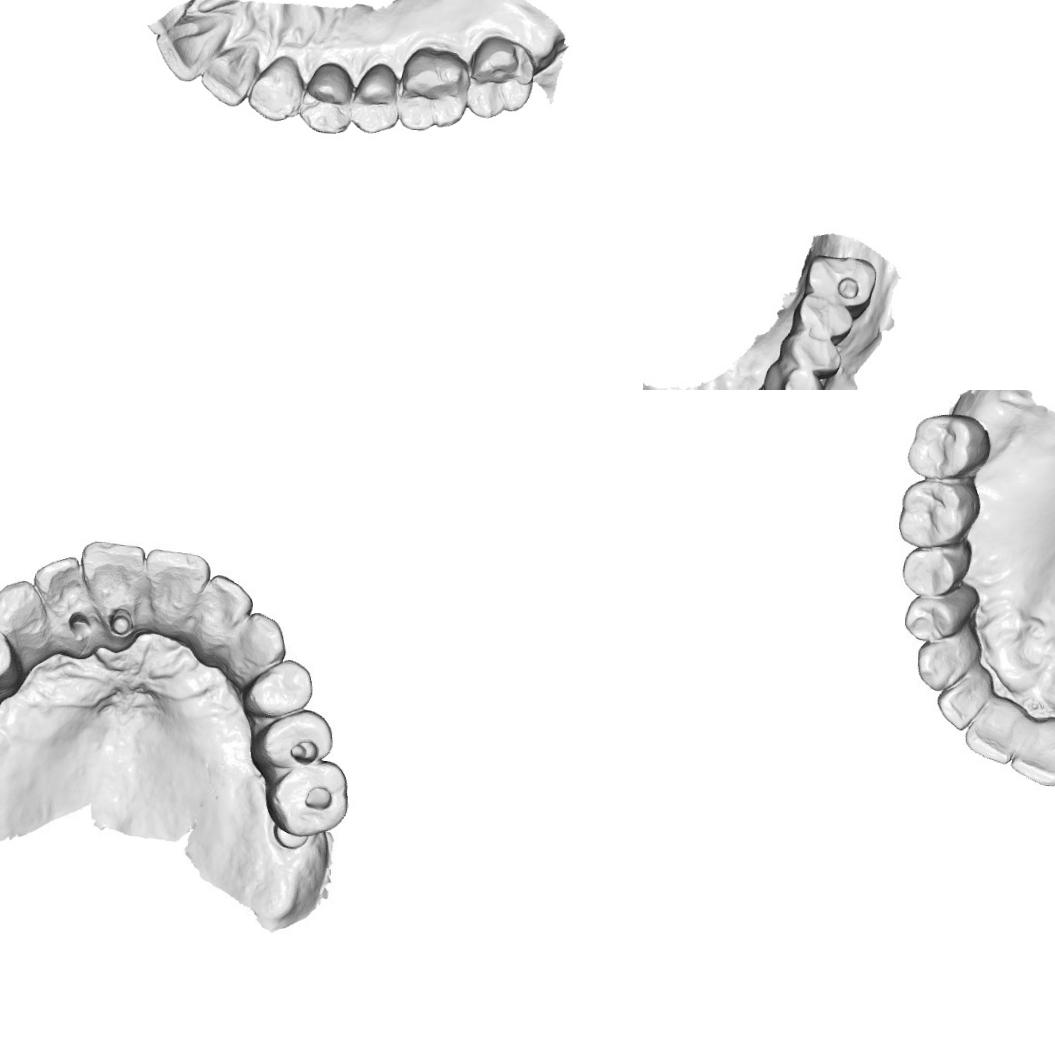canine: (0, 576, 53, 663), (245, 52, 306, 124), (223, 612, 289, 676), (914, 629, 979, 691), (777, 367, 824, 390)
incisor: (152, 8, 230, 84), (81, 540, 148, 628), (33, 556, 94, 640), (144, 550, 204, 627), (960, 695, 1026, 764), (196, 39, 260, 109), (194, 570, 248, 644), (935, 664, 992, 728), (1008, 713, 1055, 783)
molar: (264, 756, 348, 842), (395, 44, 471, 133), (464, 32, 537, 120), (894, 478, 973, 547), (904, 412, 984, 478), (804, 251, 879, 311)
premolar: (250, 704, 335, 776), (241, 659, 318, 724), (296, 59, 356, 135), (348, 60, 400, 134), (903, 543, 970, 598), (792, 289, 858, 343), (907, 591, 978, 641), (786, 330, 840, 377), (0, 614, 20, 686)
